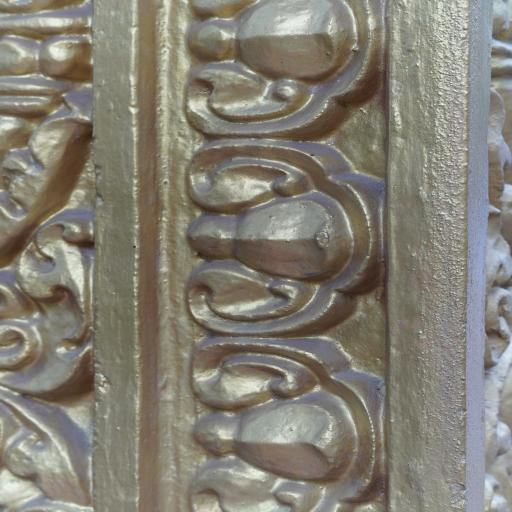la: (165, 138, 388, 348), (164, 329, 402, 512), (169, 0, 397, 142)
